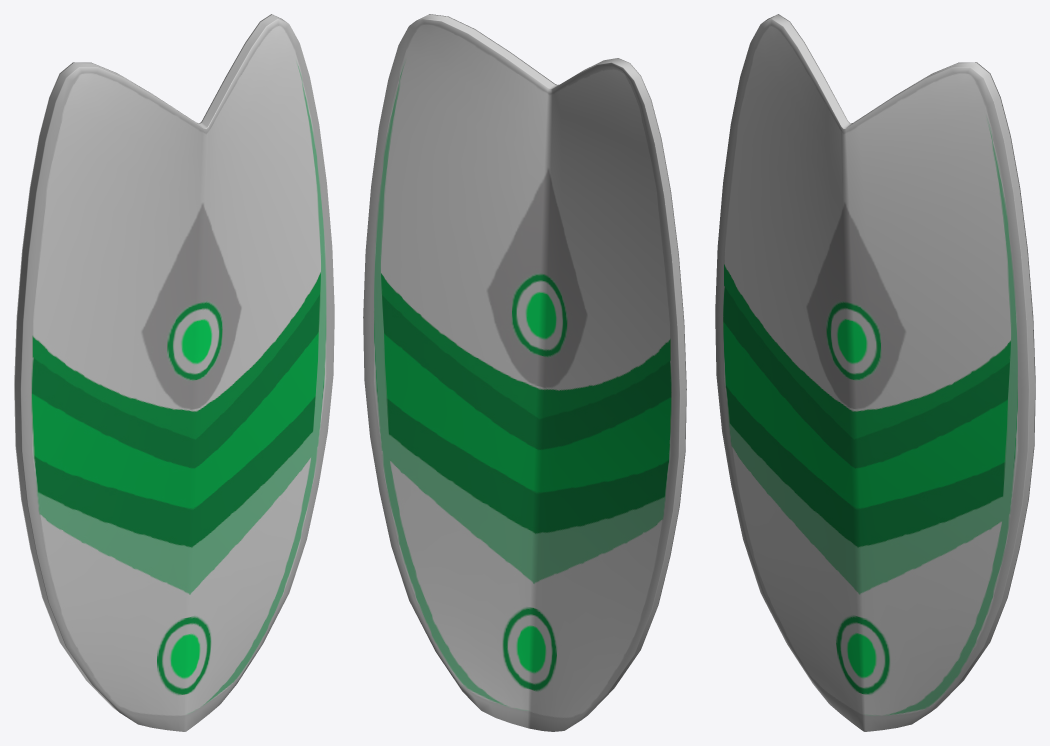
The model's file is Holo-Shield-V01.fbx.
3 views of the same model, side by side, from view 1: azimuth 30°, elevation 25°; view 2: azimuth 150°, elevation 25°; view 3: azimuth 330°, elevation 25° (orthographic).
Parts seen in each view (by area): view 1: pCube1; view 2: pCube1; view 3: pCube1.
Boxes of the visible parts, <box> form: pCube1: <box>14,14,334,731</box>; pCube1: <box>363,14,686,731</box>; pCube1: <box>715,14,1035,731</box>.
Bounding box in the file's own units: 6.13 × 12.78 × 1.2.
Materials: 1 (1 with a texture image).
